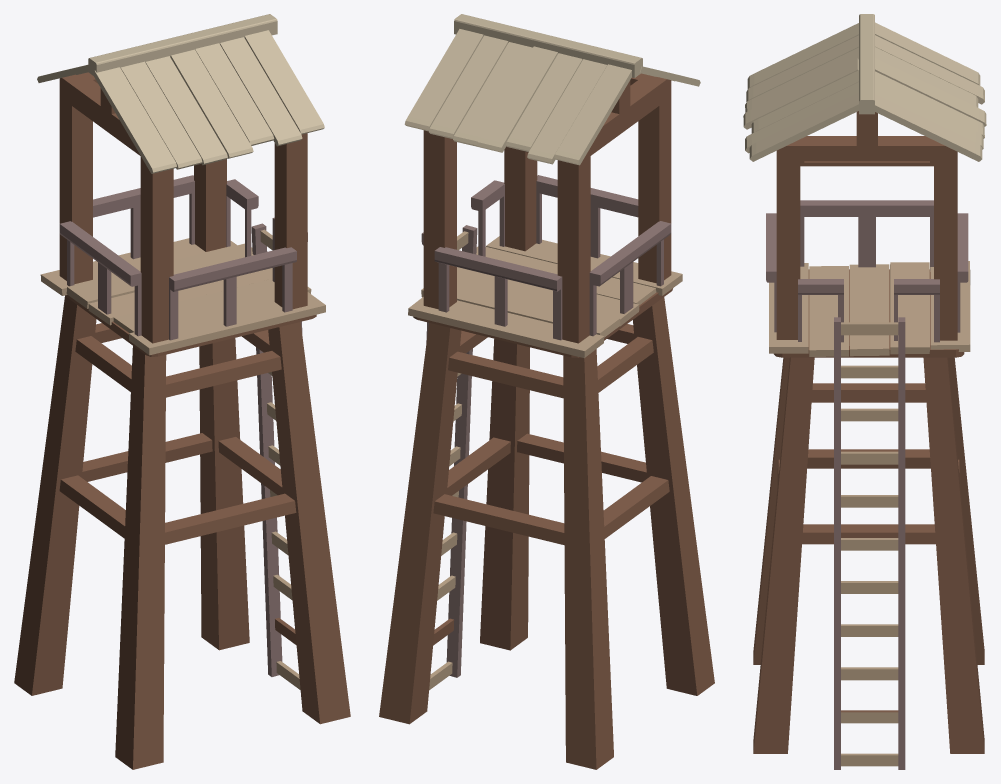
The model's file is TOREN. 1.fbx.
3 renders of one model, left to right at view 1: azimuth 30°, elevation 25°; view 2: azimuth 150°, elevation 25°; view 3: azimuth 270°, elevation 25°, orthographic. The views are drawn at different scales.
Visible parts, largest first — view 1: UitKijkToren; view 2: UitKijkToren; view 3: UitKijkToren.
Boxes of the visible parts, <box> form: UitKijkToren: <box>14,14,350,769</box>; UitKijkToren: <box>379,14,714,769</box>; UitKijkToren: <box>743,14,986,769</box>.
Size of the model in its own units: 2.61 by 7.51 by 2.51.
